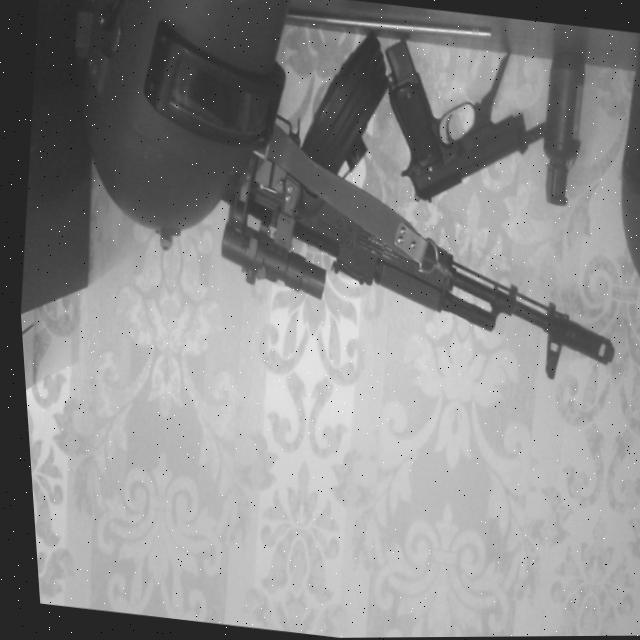firearm: (195, 24, 640, 388)
grenade: (525, 47, 592, 214)
pistol: (364, 31, 549, 214)
